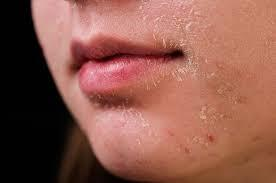Dry-Skin: (216, 22, 240, 90), (91, 96, 135, 121), (168, 131, 193, 163), (226, 60, 241, 113), (93, 0, 115, 33), (215, 70, 254, 88), (187, 12, 207, 40), (196, 48, 218, 73), (128, 2, 143, 37), (210, 119, 227, 146), (155, 19, 177, 36), (206, 57, 211, 74)
